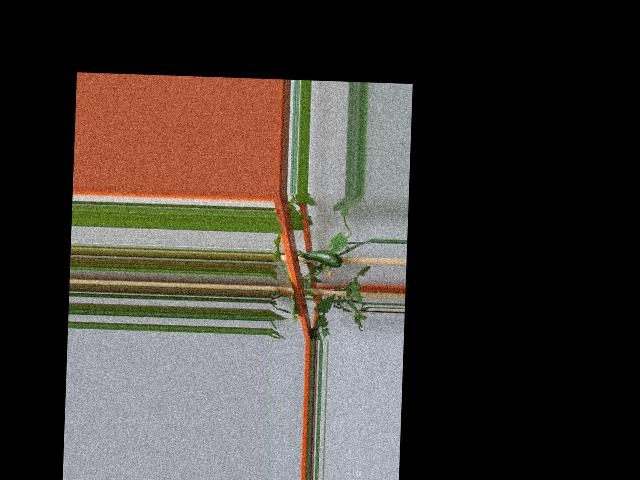cucumber: (303, 249, 346, 268)
